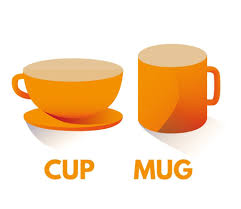mug: (126, 39, 221, 147)
